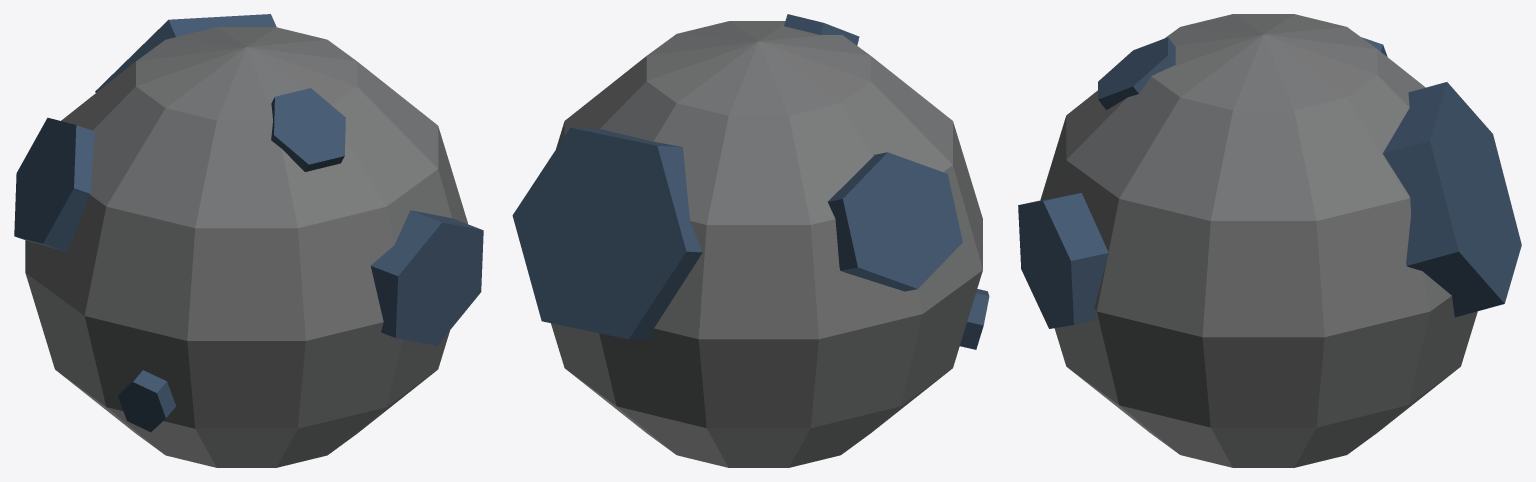
Rendered from AsteroidGraphene.obj.
The picture shows the model from 3 angles, left to right: view 1: azimuth 30°, elevation 25°; view 2: azimuth 150°, elevation 25°; view 3: azimuth 270°, elevation 25°; orthographic projection. The views are drawn at different scales.
Parts seen in each view (by area): view 1: AsteroidBody, GrapheneFrag5, GrapheneFrag2, GrapheneFrag1, GrapheneFrag4, GrapheneFrag3; view 2: AsteroidBody, GrapheneFrag3, GrapheneFrag2, GrapheneFrag4, GrapheneFrag1; view 3: AsteroidBody, GrapheneFrag3, GrapheneFrag5, GrapheneFrag1.
Boxes of the visible parts, x1,y1,x2,y2 form: AsteroidBody: [25, 27, 467, 467]; GrapheneFrag5: [371, 210, 483, 345]; GrapheneFrag2: [14, 117, 94, 251]; GrapheneFrag1: [271, 88, 345, 171]; GrapheneFrag4: [118, 370, 175, 432]; GrapheneFrag3: [95, 14, 276, 92]; AsteroidBody: [551, 21, 982, 467]; GrapheneFrag3: [512, 127, 702, 340]; GrapheneFrag2: [828, 152, 962, 291]; GrapheneFrag4: [960, 289, 989, 349]; GrapheneFrag1: [784, 14, 859, 45]; AsteroidBody: [1040, 14, 1477, 467]; GrapheneFrag3: [1382, 82, 1521, 317]; GrapheneFrag5: [1018, 193, 1108, 328]; GrapheneFrag1: [1098, 37, 1175, 109].
Size of the model in its own units: 0.2571 by 0.25 by 0.2763.
Materials: 2 (2 with a texture image).
